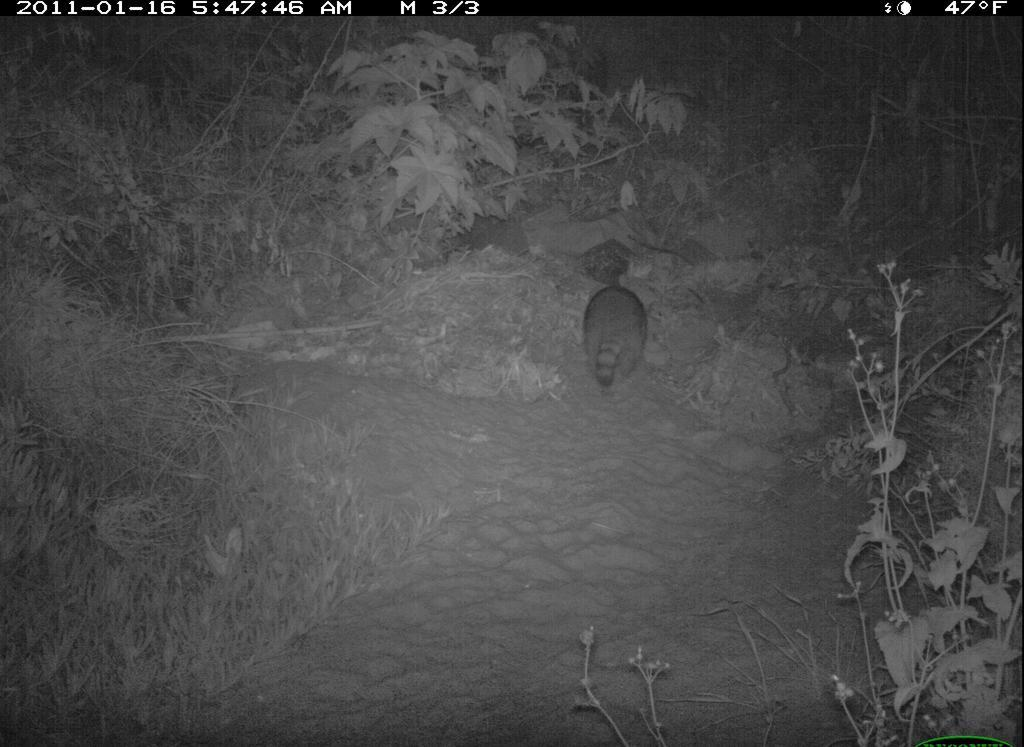raccoon: (564, 271, 662, 390)
